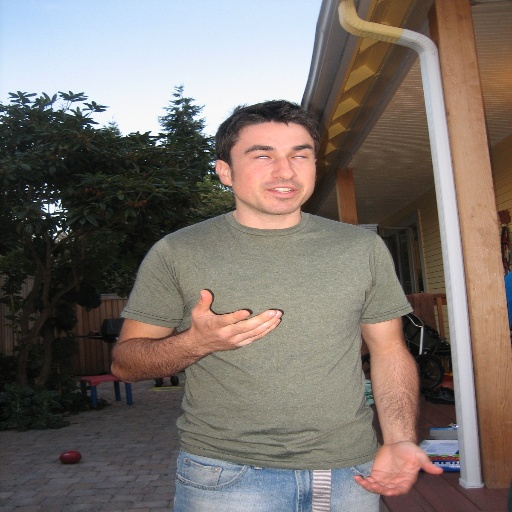hand: (189, 288, 284, 353), (350, 437, 444, 497)
